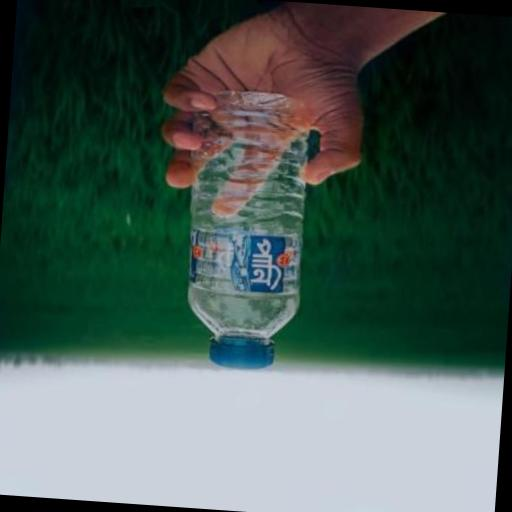Coca: (170, 82, 323, 381)
